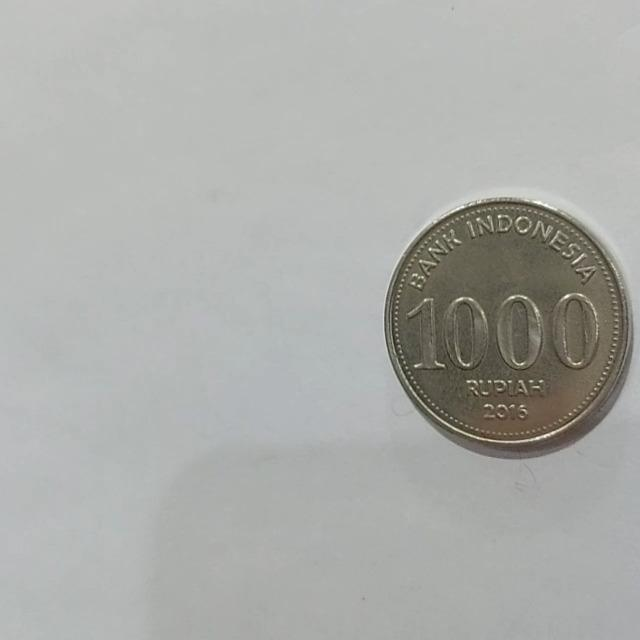Rp100: (381, 194, 633, 459)
